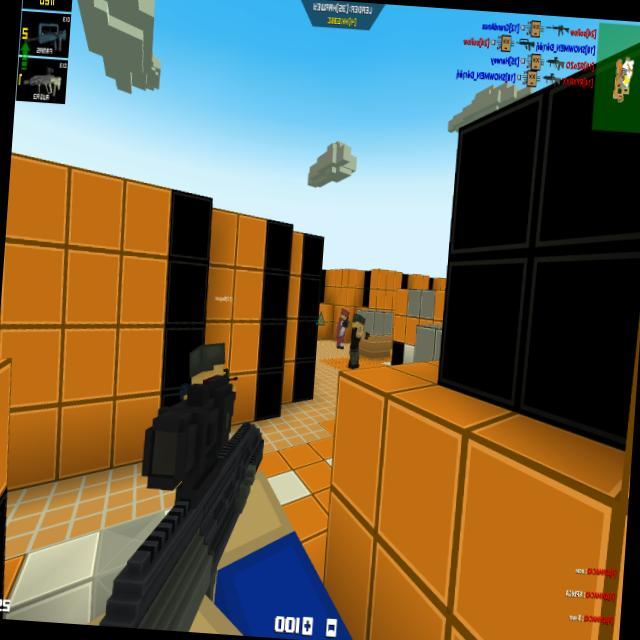enemy: (346, 312, 371, 370), (334, 306, 351, 351)
